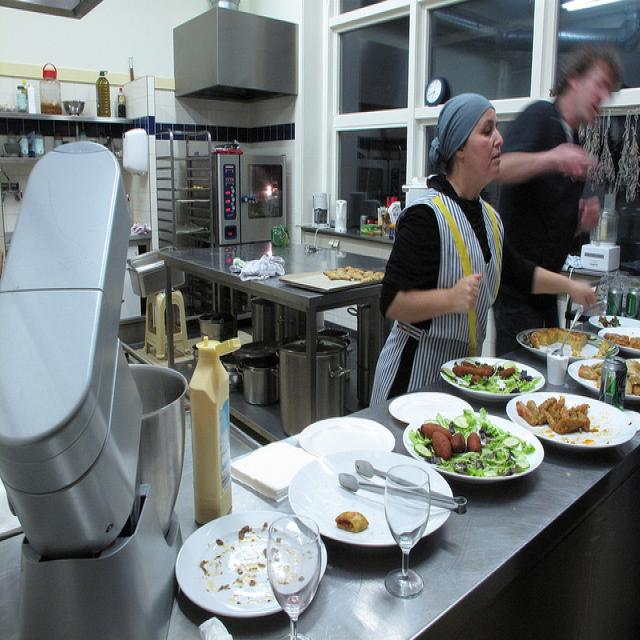chair: (142, 288, 191, 360)
dining table: (170, 299, 640, 627), (156, 231, 390, 427)
